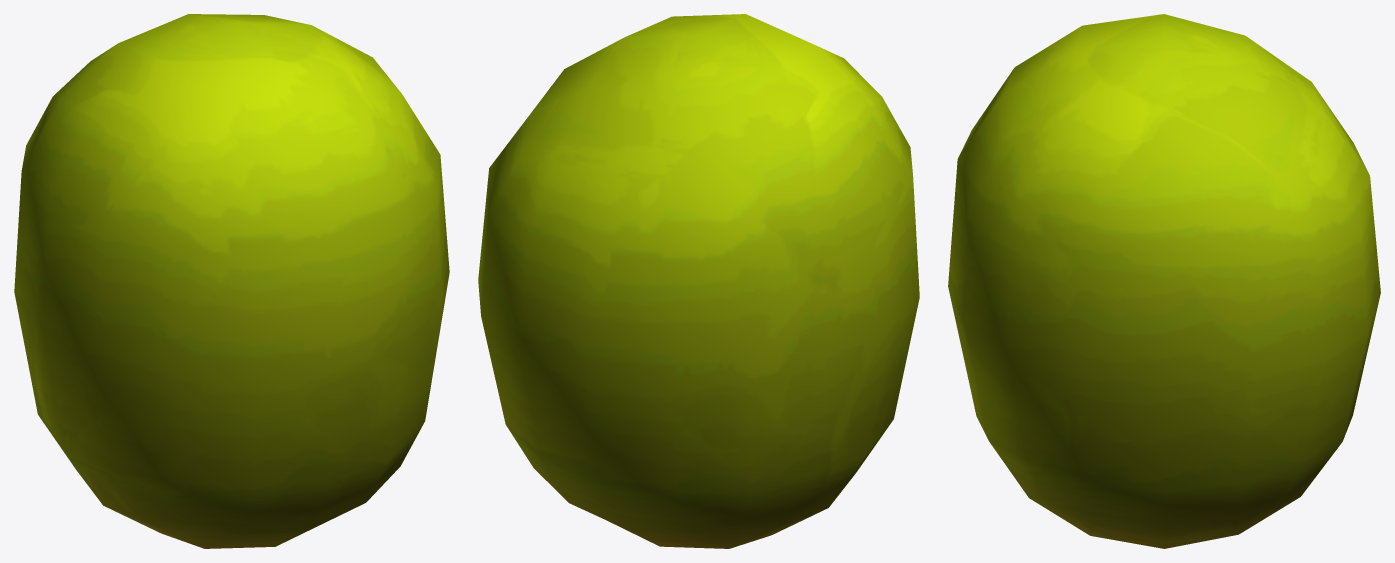
The model's file is SM_Grape_D.fbx.
The picture shows the model from 3 angles, left to right: view 1: azimuth 30°, elevation 25°; view 2: azimuth 150°, elevation 25°; view 3: azimuth 270°, elevation 25°; orthographic projection. The views are drawn at different scales.
Visible parts, largest first — view 1: SM_Grape_D; view 2: SM_Grape_D; view 3: SM_Grape_D.
Boxes of the visible parts, bbox=[...] form: SM_Grape_D: bbox=[14, 14, 449, 548]; SM_Grape_D: bbox=[478, 14, 919, 548]; SM_Grape_D: bbox=[948, 14, 1380, 548].
Bounding box in the file's own units: 3.34 × 4.22 × 3.36.
